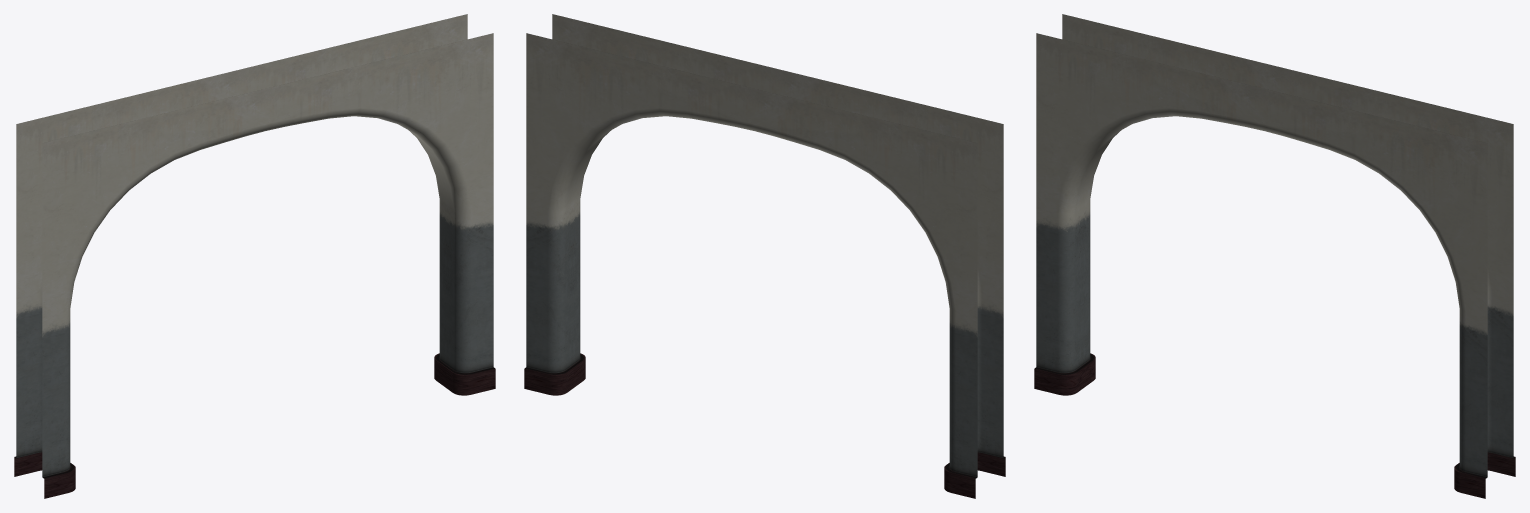
Rendered from Wall 4 Arch 2.fbx.
3 renders of one model, left to right at view 1: azimuth 30°, elevation 25°; view 2: azimuth 150°, elevation 25°; view 3: azimuth 330°, elevation 25°, orthographic.
Parts seen in each view (by area): view 1: Wall_4_Arch_2; view 2: Wall_4_Arch_2; view 3: Wall_4_Arch_2.
Boxes of the visible parts, x1=… form: Wall_4_Arch_2: x1=14, y1=14, x2=495, y2=498; Wall_4_Arch_2: x1=524, y1=14, x2=1005, y2=498; Wall_4_Arch_2: x1=1034, y1=14, x2=1515, y2=498.
Size of the model in its own units: 400 by 300 by 46.
